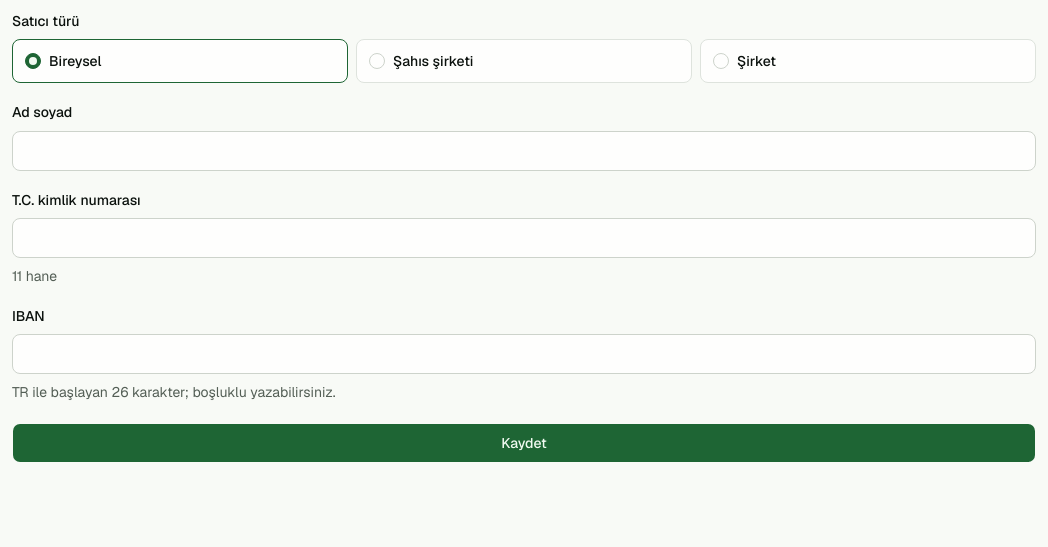
Test: PayoutForm › sağlayıcı reddederse mesajı gösterir ve yeni durumu görmek için sayfayı yeniler
Type "Örnek Üretici" into the field labelled "Ad soyad".
click(524, 150); type("Örnek Üretici")  # box [12,130,1036,170]
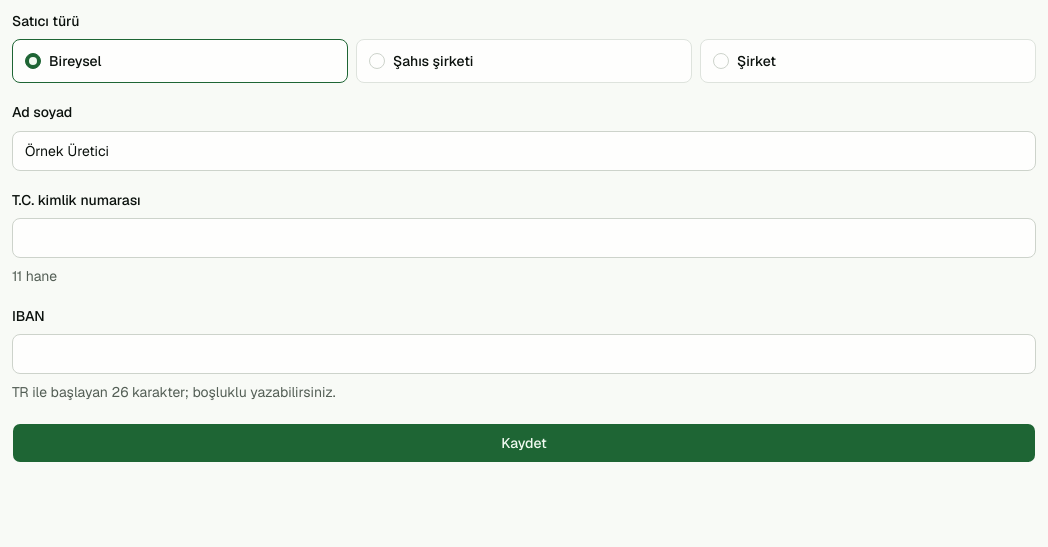
Type "10000000078" into the field labelled "T.C. kimlik numarası".
click(524, 238); type("10000000078")  # box [12,218,1036,258]
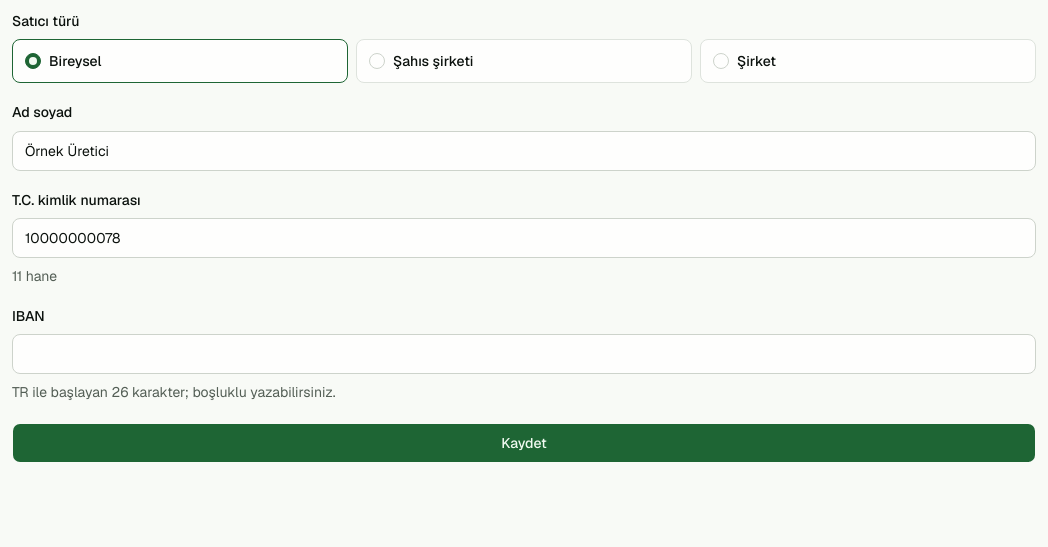
Type "TR330006100519786457841326" into the field labelled "IBAN".
click(524, 354); type("TR330006100519786457841326")  # box [12,334,1036,374]
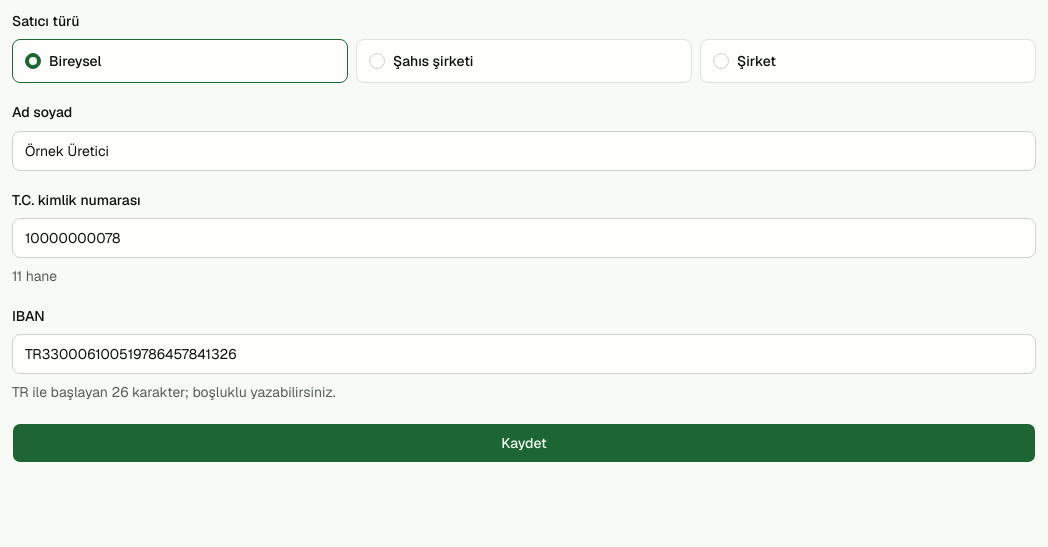
Click the button "Kaydet".
click(524, 443)  # box [12,423,1036,463]
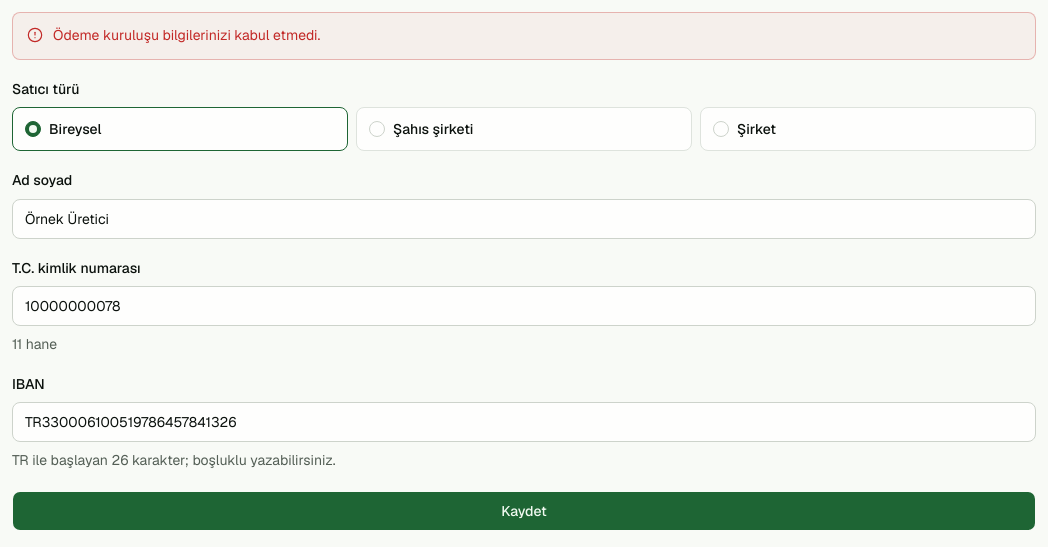
Check: the text "Ödeme kuruluşu bilgilerinizi kabul etmedi." is shown, box [53,26,320,44]
